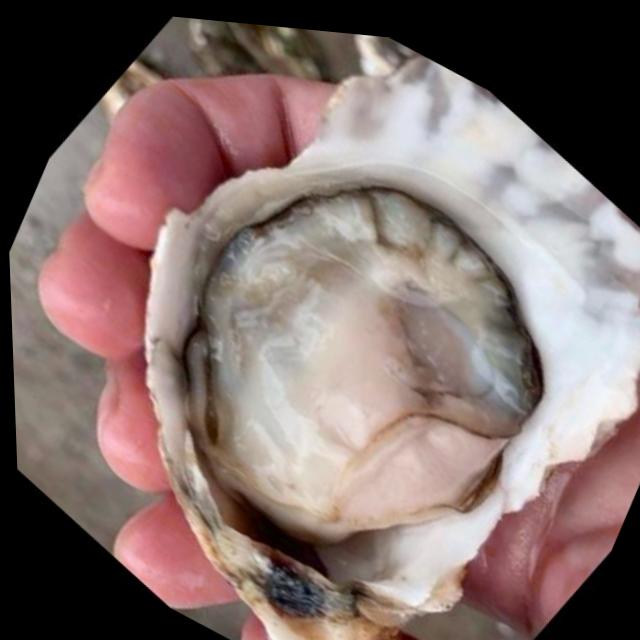Oyster-Indeterminate: (195, 19, 357, 105), (164, 16, 285, 101)
Oyster-Open: (12, 1, 640, 640)
